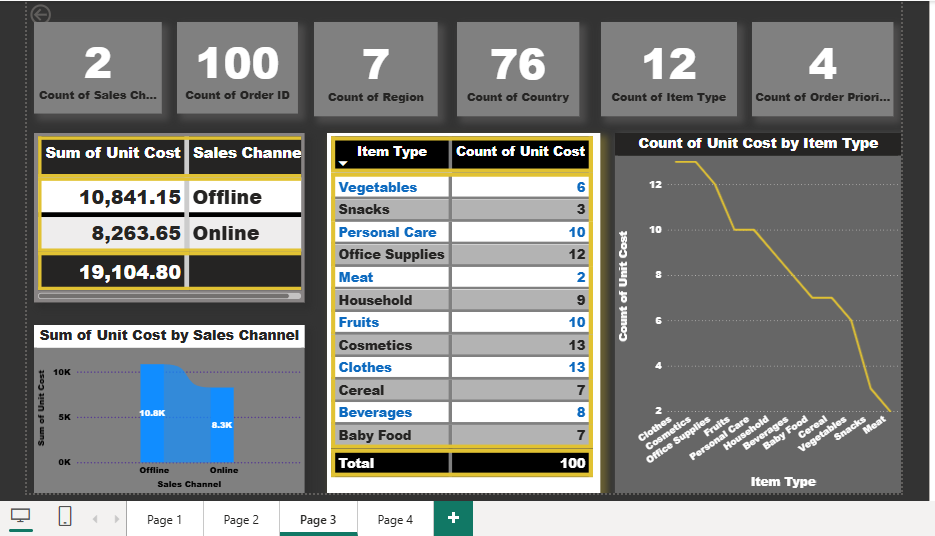

This screenshot's page, from the dashboard's own definition file:
{"tool":"powerbi","page":{"name":"Page 3","canvas":[1280,720],"ordinal":2},"visuals":[{"type":"tableEx","fields":{"Values":["Sum(Amazon Sales data.Unit Cost)","Amazon Sales data.Sales Channel"]},"box":[10.1,193,396,247.7],"z":0},{"type":"actionButton","box":[0,0,100,40],"z":1000},{"type":"lineChart","fields":{"Category":["Amazon Sales data.Item Type"],"Y":["CountNonNull(Amazon Sales data.Unit Cost)"]},"box":[861.1,193,419,527],"z":2000},{"type":"ribbonChart","fields":{"Y":["Sum(Amazon Sales data.Unit Cost)"],"Category":["Amazon Sales data.Sales Channel"]},"box":[10.1,473.8,396,246.2],"z":3000},{"type":"tableEx","fields":{"Values":["Amazon Sales data.Item Type","CountNonNull(Amazon Sales data.Unit Cost)"]},"box":[439.2,193,400.3,527],"z":4000},{"type":"card","fields":{"Values":["Count(Amazon Sales data.Item Type)"]},"box":[839.5,30.2,198.7,138.2],"z":4001},{"type":"card","fields":{"Values":["Count(Amazon Sales data.Order ID)"]},"box":[218.9,30.2,177.1,133.9],"z":4002},{"type":"card","fields":{"Values":["Count(Amazon Sales data.Region)"]},"box":[420.5,30.2,181.4,138.2],"z":4003},{"type":"card","fields":{"Values":["Count(Amazon Sales data.Country)"]},"box":[629.3,30.2,178.6,138.2],"z":4004},{"type":"card","fields":{"Values":["Count(Amazon Sales data.Sales Channel)"]},"box":[10.1,30.2,187.2,133.9],"z":4005},{"type":"card","fields":{"Values":["Count(Amazon Sales data.Order Priority)"]},"box":[1061.3,30.2,207.4,138.2],"z":4006}]}

Visuals, with their boxes on the page's 1280x720 design canvas (x1, y1, x2, y2). These are canvas units, not pixel positions in the 935x536 screenshot, which may show the page scaled, cropped or inside an application window:
tableEx - Sum(Amazon Sales data.Unit Cost) x Amazon Sales data.Sales Channel: <box>10,193,406,441</box>
actionButton: <box>0,0,100,40</box>
lineChart - Amazon Sales data.Item Type x CountNonNull(Amazon Sales data.Unit Cost): <box>861,193,1280,720</box>
ribbonChart - Sum(Amazon Sales data.Unit Cost) x Amazon Sales data.Sales Channel: <box>10,474,406,720</box>
tableEx - Amazon Sales data.Item Type x CountNonNull(Amazon Sales data.Unit Cost): <box>439,193,840,720</box>
card - Count(Amazon Sales data.Item Type): <box>840,30,1038,168</box>
card - Count(Amazon Sales data.Order ID): <box>219,30,396,164</box>
card - Count(Amazon Sales data.Region): <box>420,30,602,168</box>
card - Count(Amazon Sales data.Country): <box>629,30,808,168</box>
card - Count(Amazon Sales data.Sales Channel): <box>10,30,197,164</box>
card - Count(Amazon Sales data.Order Priority): <box>1061,30,1269,168</box>
